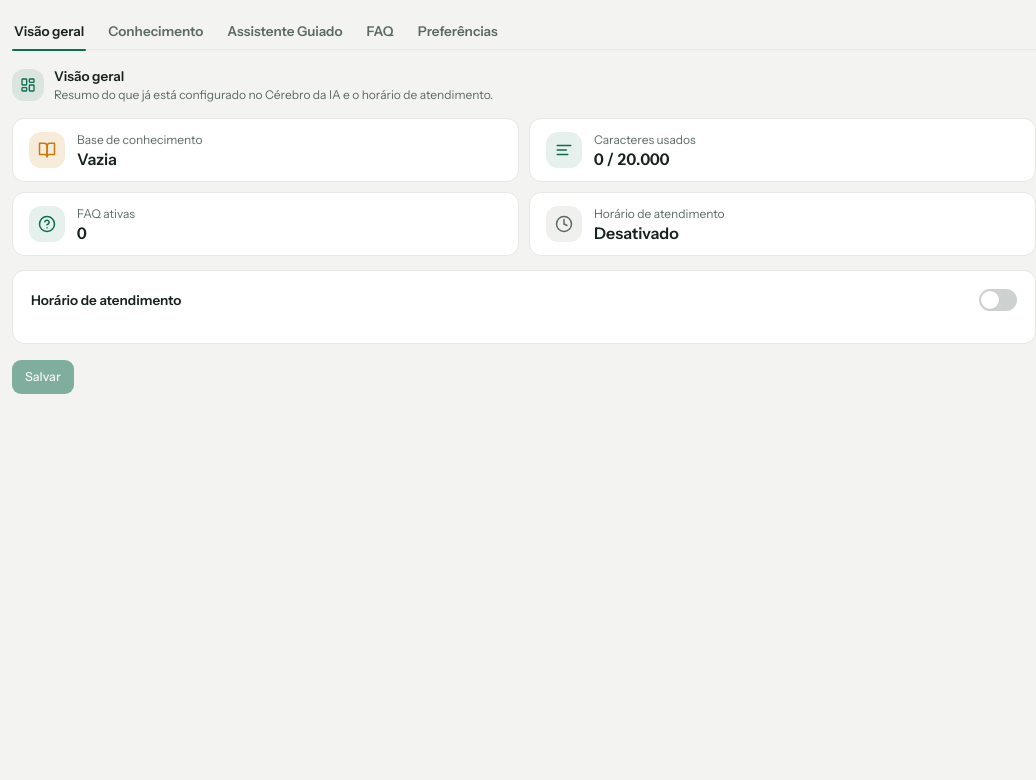
AiProfilePanel (Cérebro da IA v3 — 4 abas) › troca para a aba FAQ e monta o AiFaqPanel
Click the tab "FAQ".
click(380, 31)  # box x1=364 y1=12 x2=396 y2=50
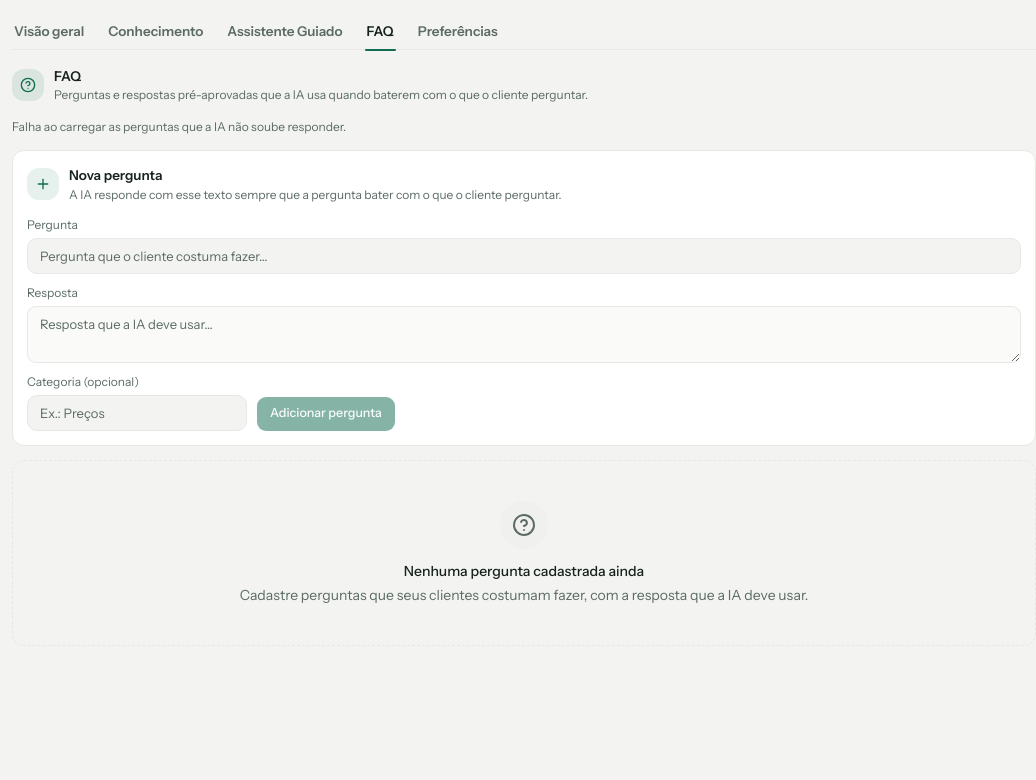
Check: the field with placeholder "Pergunta que o cliente costuma fazer…" is shown, box x1=27 y1=238 x2=1021 y2=274
